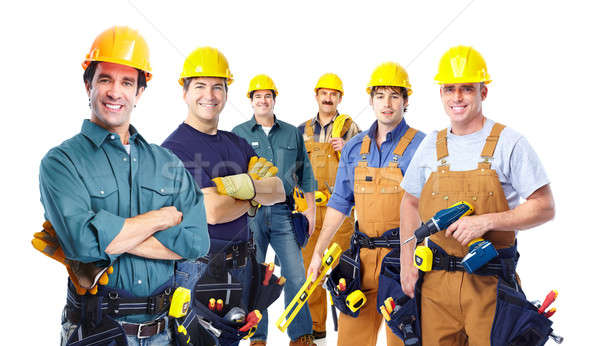Person_wearing_helmet: (78, 22, 155, 82), (430, 41, 489, 90), (177, 45, 232, 93), (363, 55, 412, 97), (243, 69, 277, 101), (310, 67, 343, 93)
